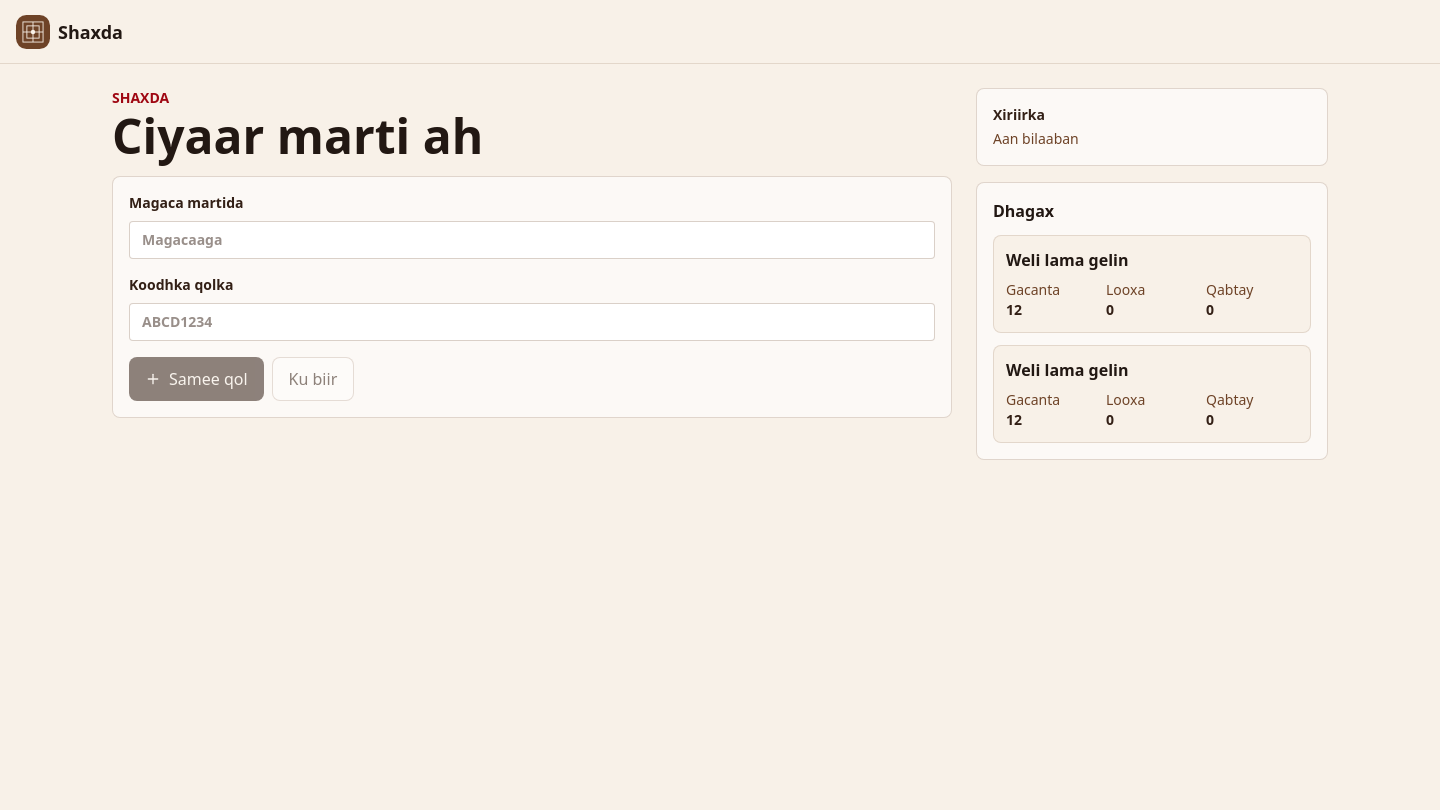
Scenario: /online › creates a room and shows the lobby
Type "Ayaan" into the field labelled "Magaca martida" at [532, 240], box [129,221,935,259]
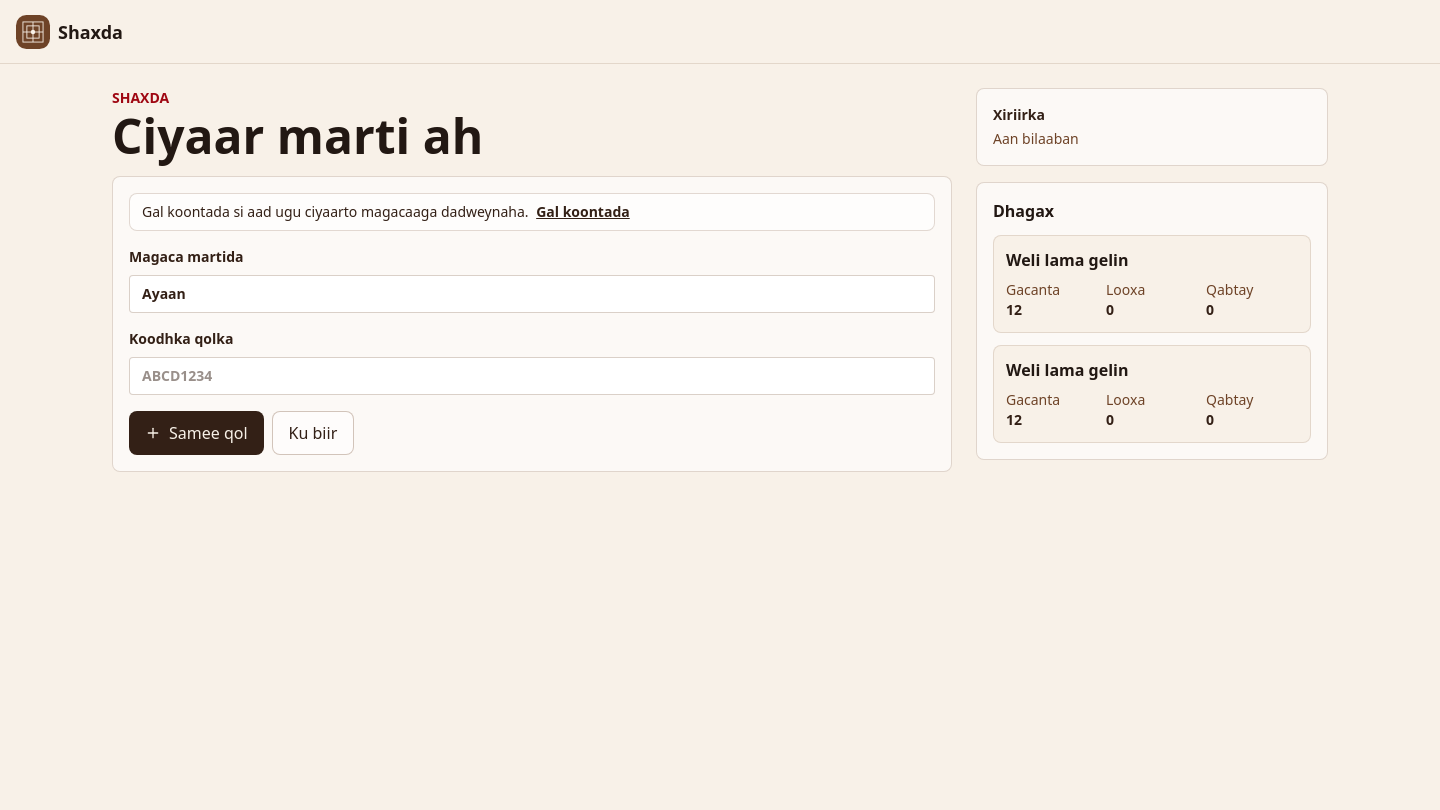
Check: the button with test id "create-room" is enabled
Click the button with test id "create-room" at [196, 433], box [129,411,264,455]
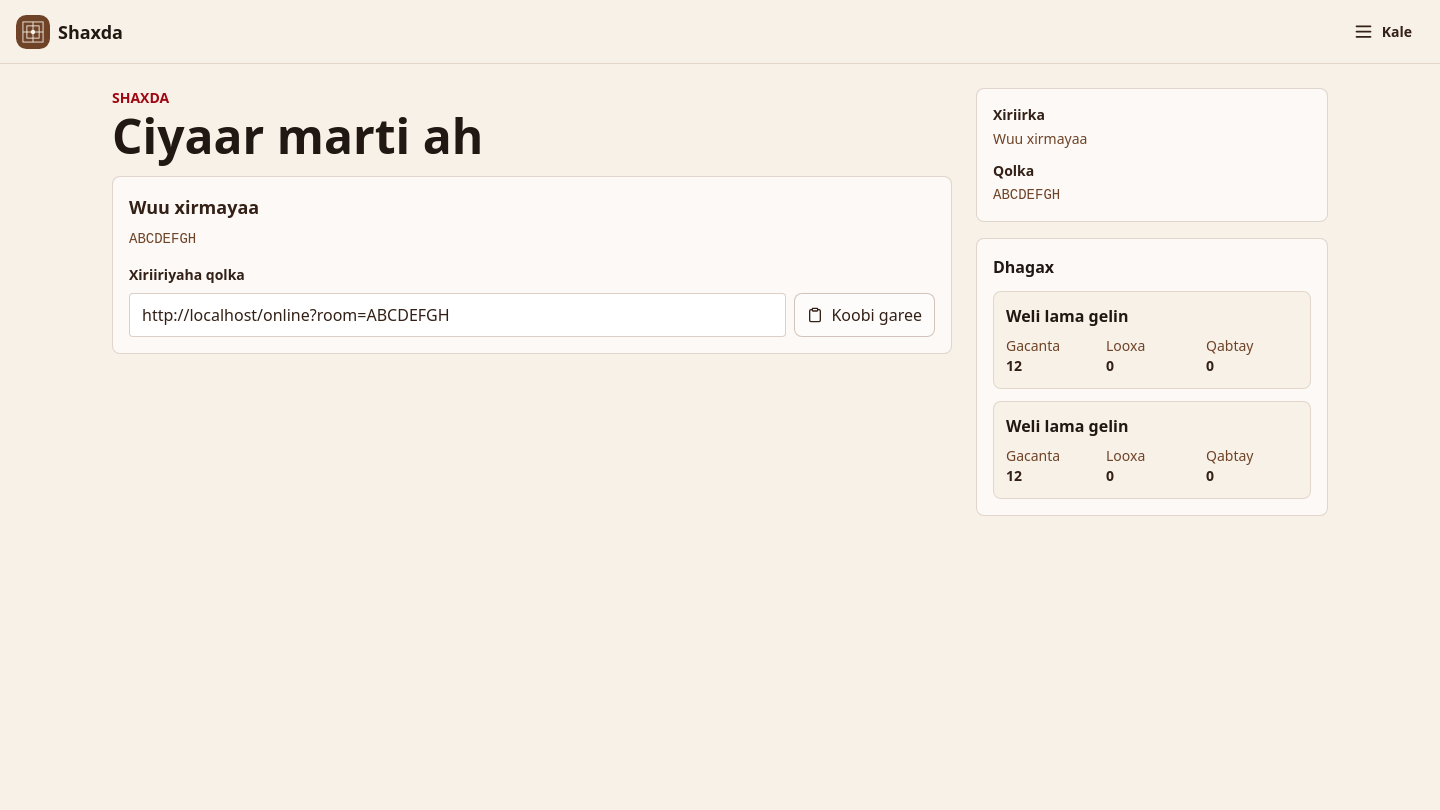
Check: the element with test id "online-lobby" shows "Wuu xirmayaa", box [129,195,259,219]
Click the button with aria-label "Fur ficillo kale" at [1382, 32], box [1341,10,1424,54]
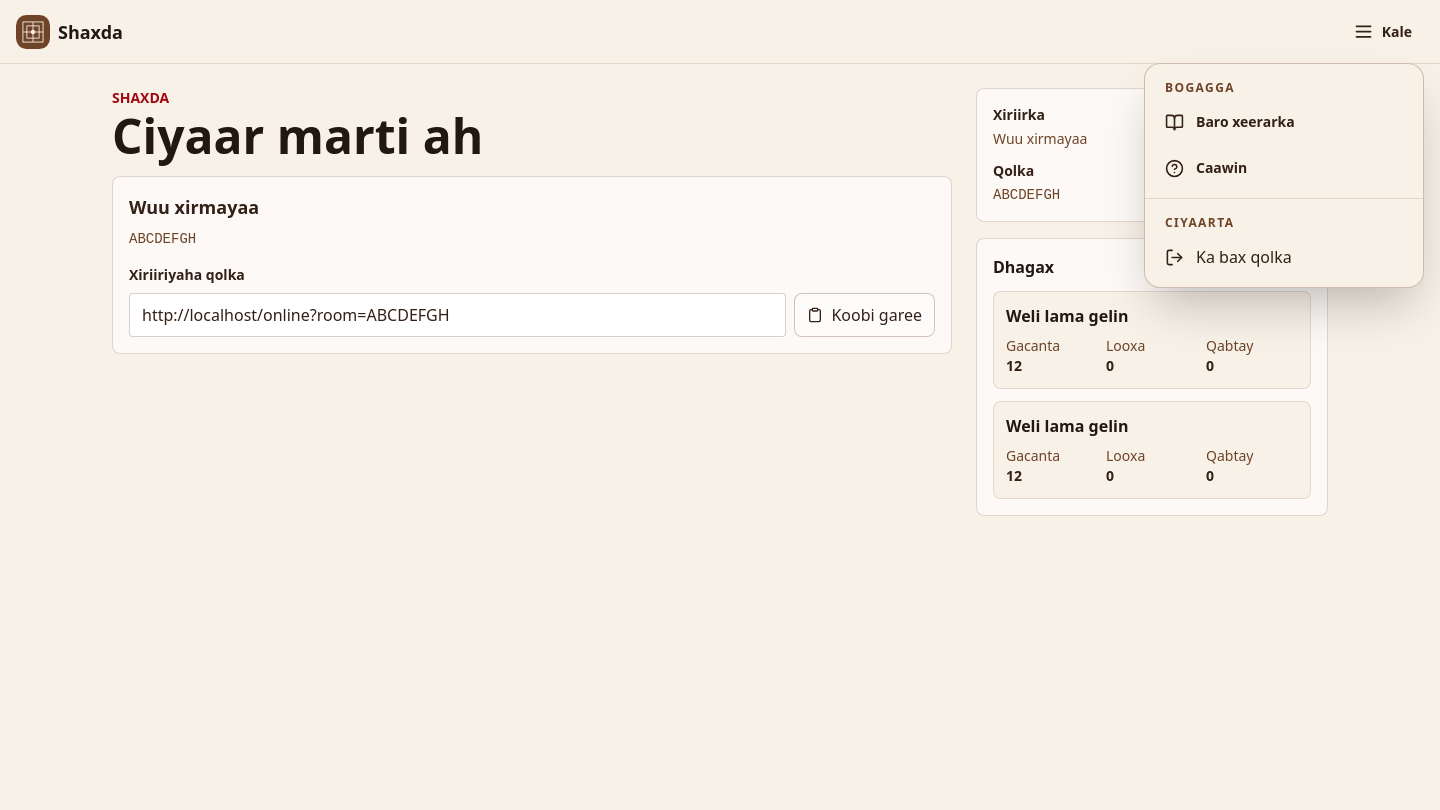
Click the menu item "Ka bax qolka" at [1284, 257], box [1153,235,1415,279]
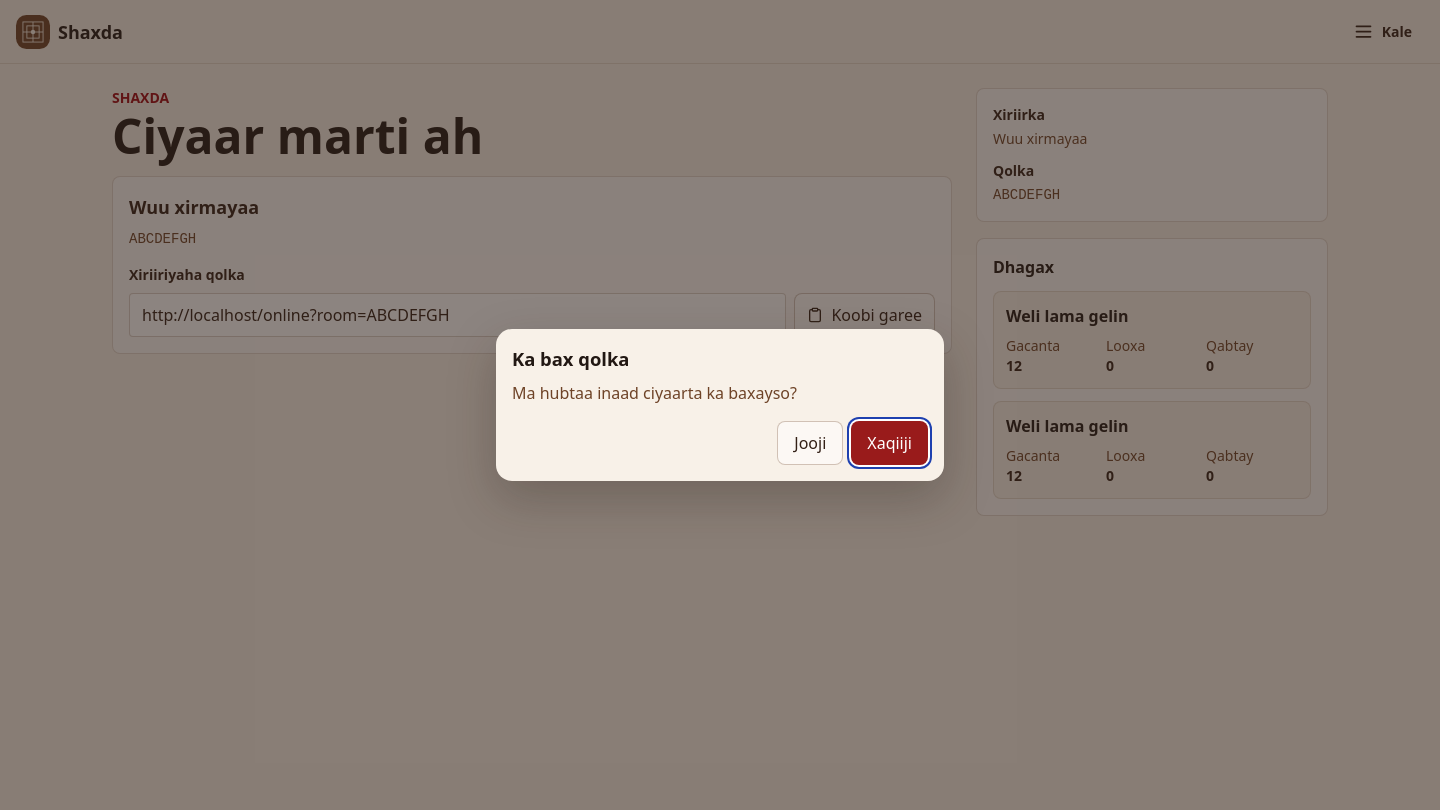
Click the button "Xaqiiji" at [890, 443], box [851,421,928,465]
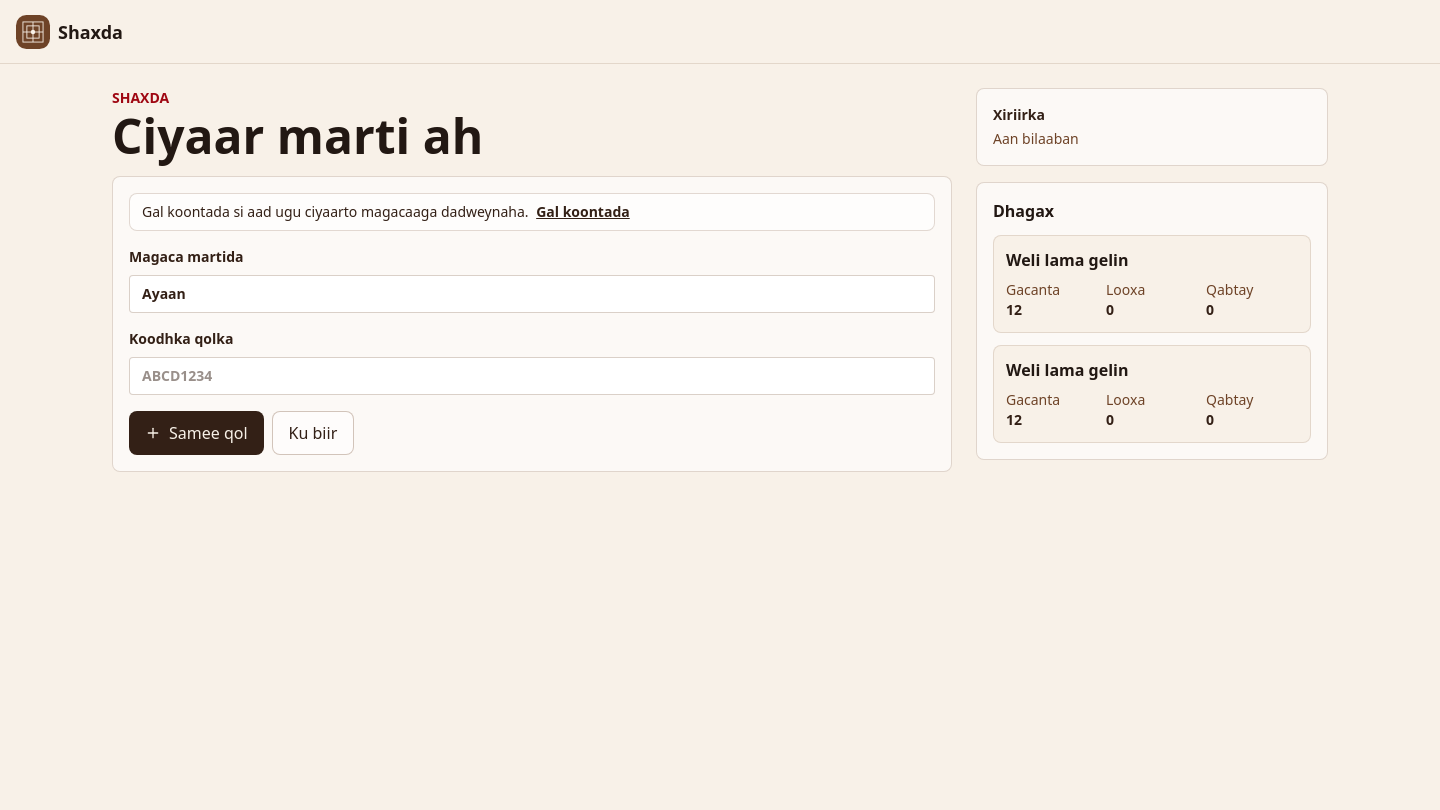
Check: the button with test id "create-room" is shown, box [129,411,264,455]
